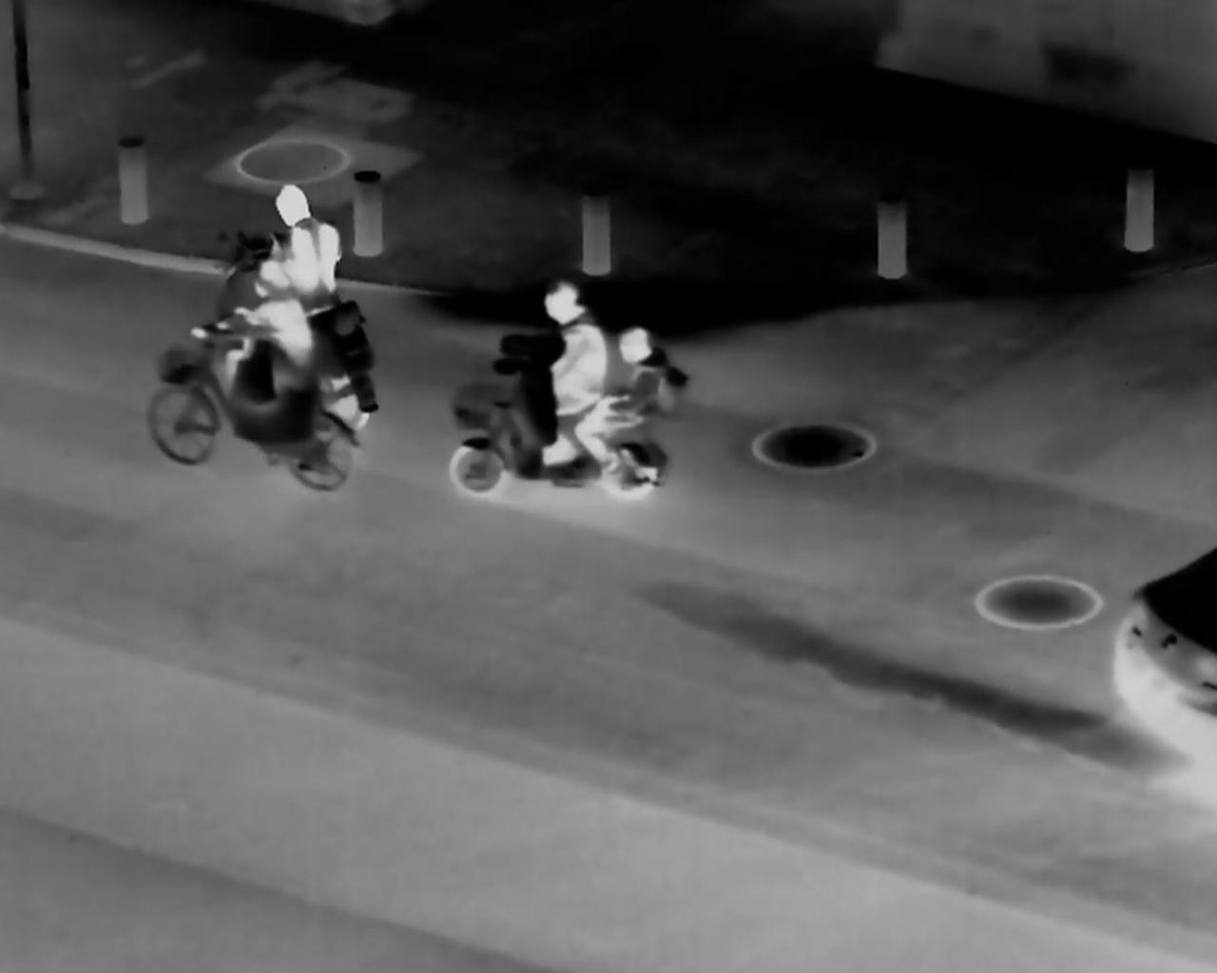person: (520, 278, 616, 479), (200, 256, 321, 409), (589, 316, 690, 488), (263, 182, 366, 342)
